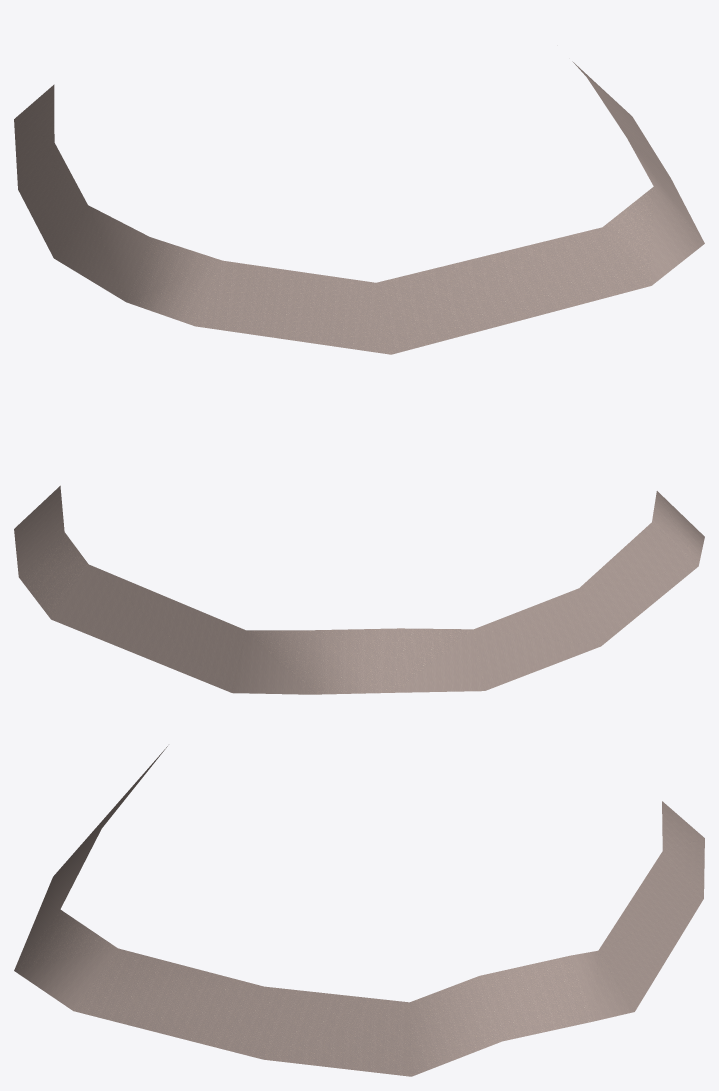
Rendered from kd_stage_136599_10_39_bounded.glb.
3 views of the same model, one above another, from view 1: azimuth 30°, elevation 25°; view 2: azimuth 150°, elevation 25°; view 3: azimuth 270°, elevation 25° (orthographic). The views are drawn at different scales.
Parts seen in each view (by area): view 1: kd_stage_136599_10_39_bounded; view 2: kd_stage_136599_10_39_bounded; view 3: kd_stage_136599_10_39_bounded.
Part boxes in pixels (bbox=[...]): kd_stage_136599_10_39_bounded: bbox=[14, 61, 704, 354]; kd_stage_136599_10_39_bounded: bbox=[14, 485, 704, 694]; kd_stage_136599_10_39_bounded: bbox=[14, 746, 704, 1076].
Bounding box in the file's own units: 202 × 26.4 × 200.
Materials: 1 (1 with a texture image).
